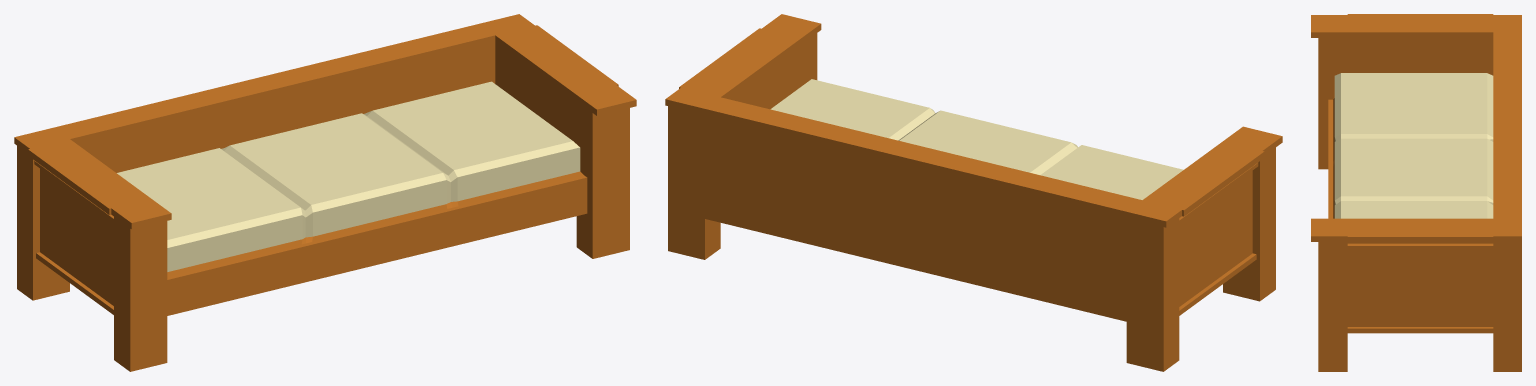
The model's file is BigSofa.glb.
3 renders of one model, left to right at view 1: azimuth 30°, elevation 25°; view 2: azimuth 150°, elevation 25°; view 3: azimuth 270°, elevation 25°, orthographic. The views are drawn at different scales.
Parts seen in each view (by area): view 1: BigSofa; view 2: BigSofa; view 3: BigSofa.
Part boxes in pixels (<box>): BigSofa: <box>14,14,636,371</box>; BigSofa: <box>665,14,1282,371</box>; BigSofa: <box>1311,14,1521,371</box>.
Size of the model in its own units: 5.45 by 1.56 by 2.18.
1 material, 1 textured.
